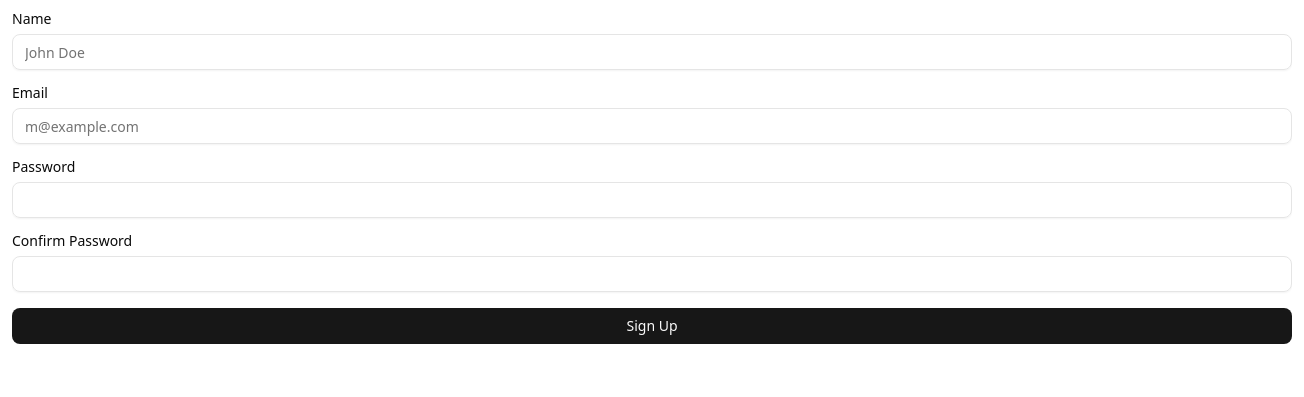
Test: SignUpForm › displays error message on registration failure
This screenshot has width=1304, height=397.
Type "Test User" into the field labelled "Name" at (652, 52), box [12,34,1292,70]
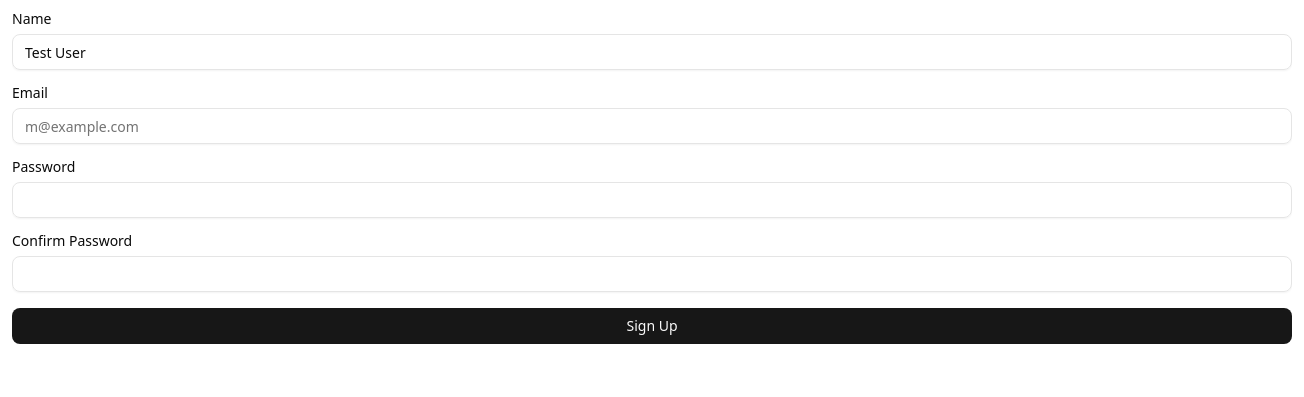
Type "duplicate@example.com" into the field labelled "Email" at (652, 126), box [12,108,1292,144]
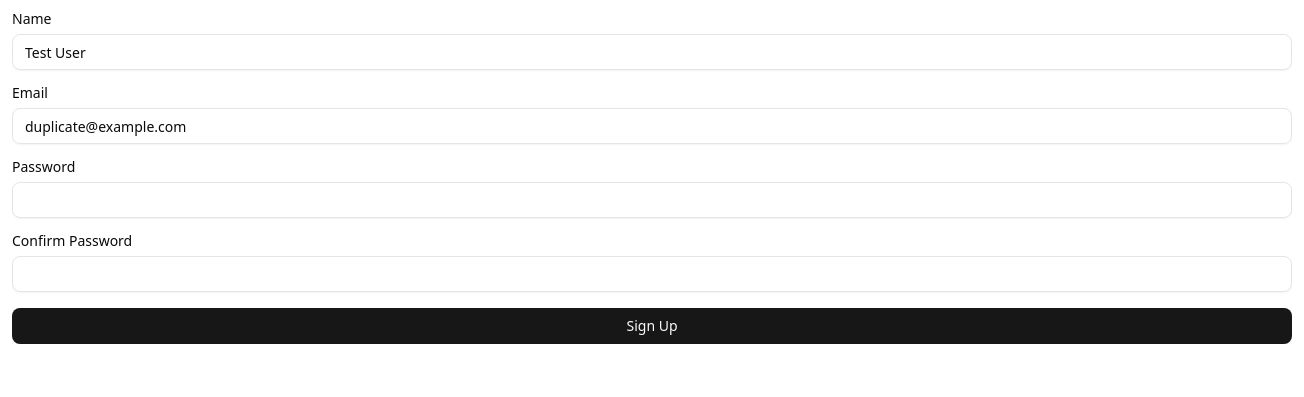
Type "password123" into the password field labelled "Password" at (652, 200), box [12,182,1292,218]
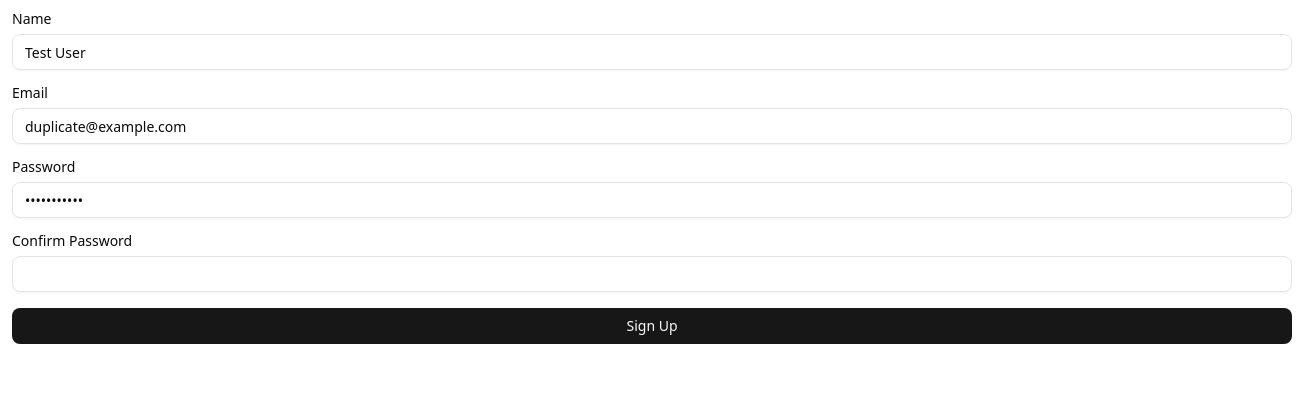
Type "password123" into the password field labelled "Confirm Password" at (652, 274), box [12,256,1292,292]
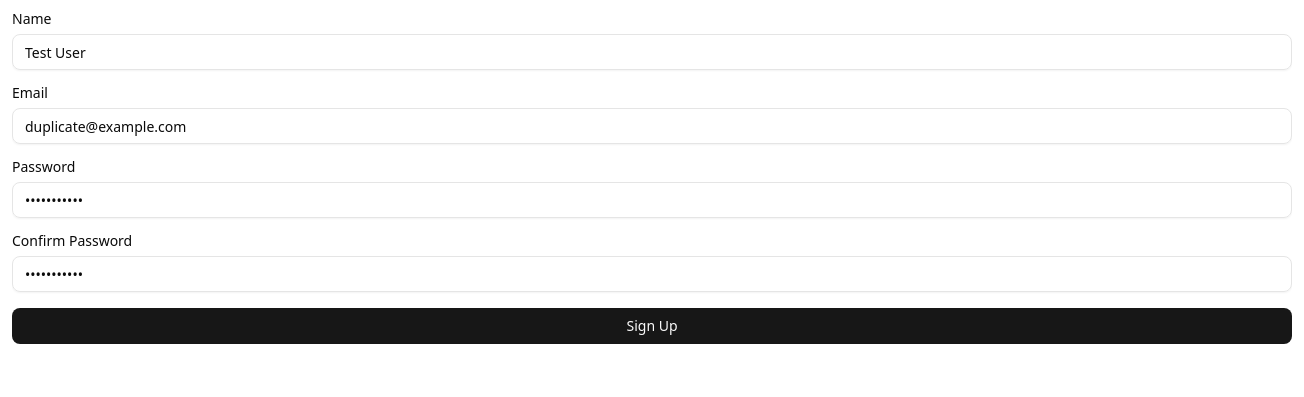
Click the button "Sign Up" at (652, 326), box [12,308,1292,344]
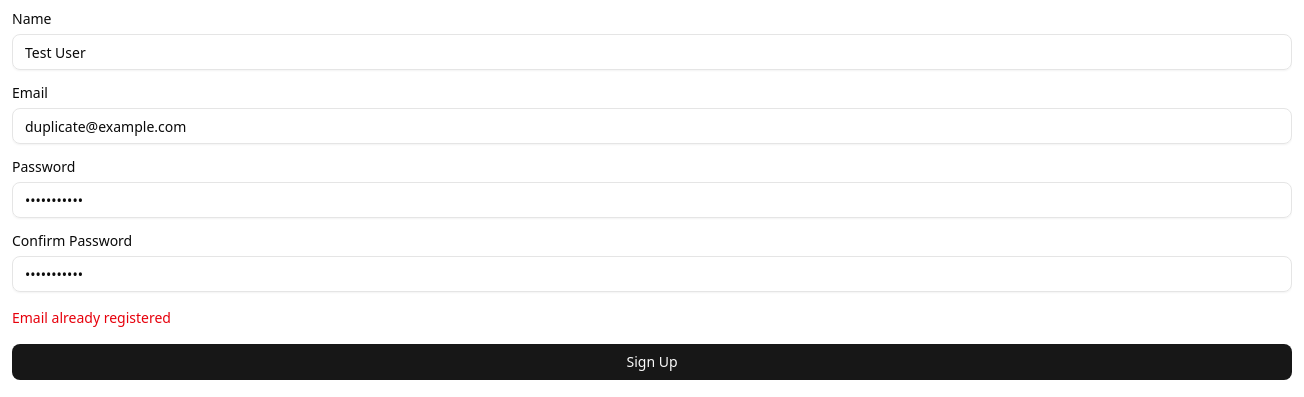
Now the text "Email already registered" is shown, box [12,308,171,327]
